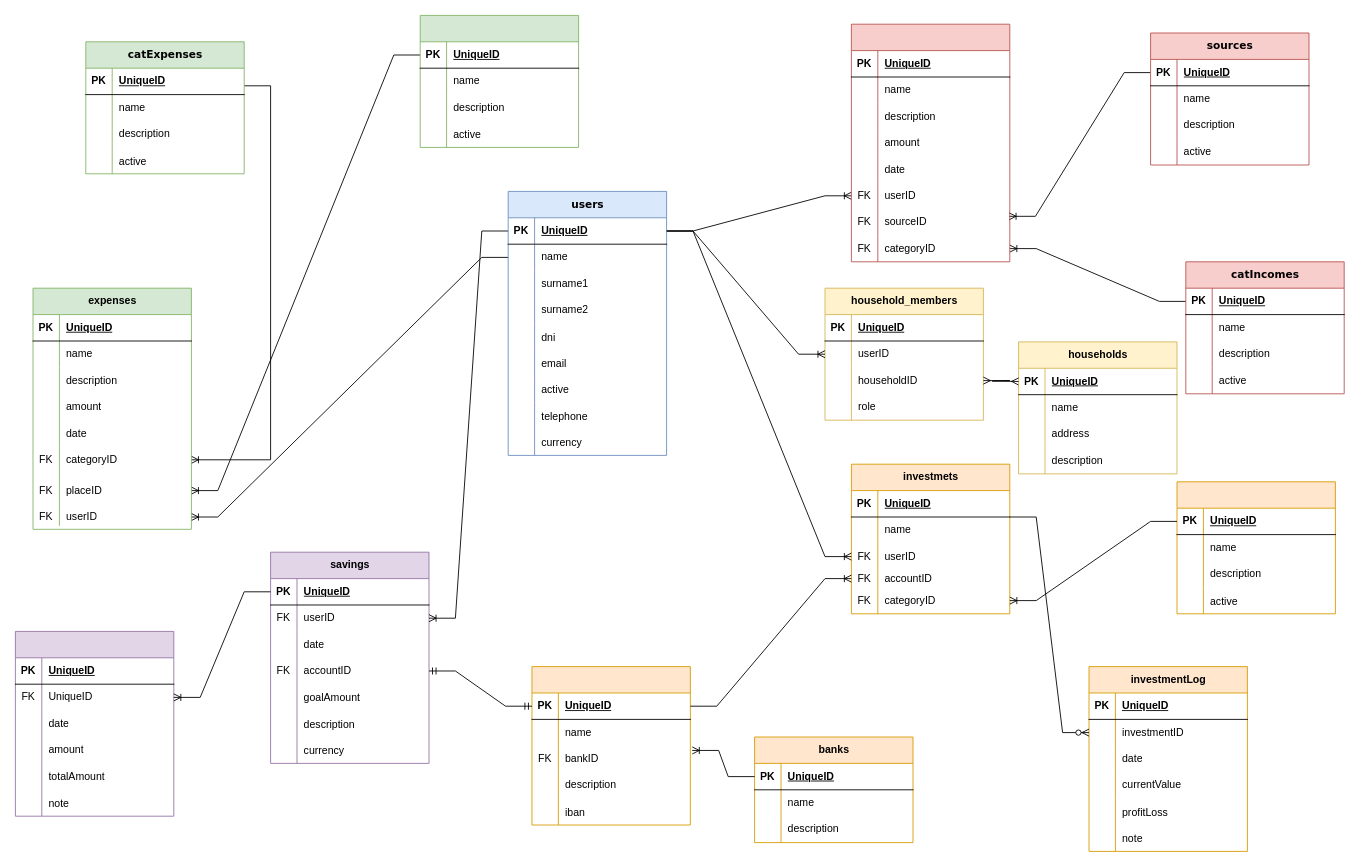
This 1360x867 diagram has some shape labels left out. The shapes that lost their labels are listed below. From the top down, each one's box as (x1, y1, x2, y2) in pixels, then its label:
(419, 15, 579, 147): place
(851, 23, 1010, 262): incomes
(1176, 481, 1335, 614): catInvestment
(15, 631, 174, 816): savingsLog
(531, 666, 690, 825): accounts
